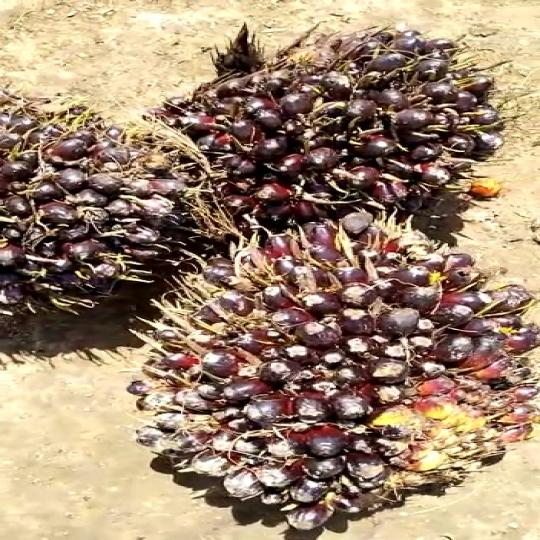mentah: (138, 218, 524, 534), (124, 19, 524, 243), (0, 91, 190, 327)
